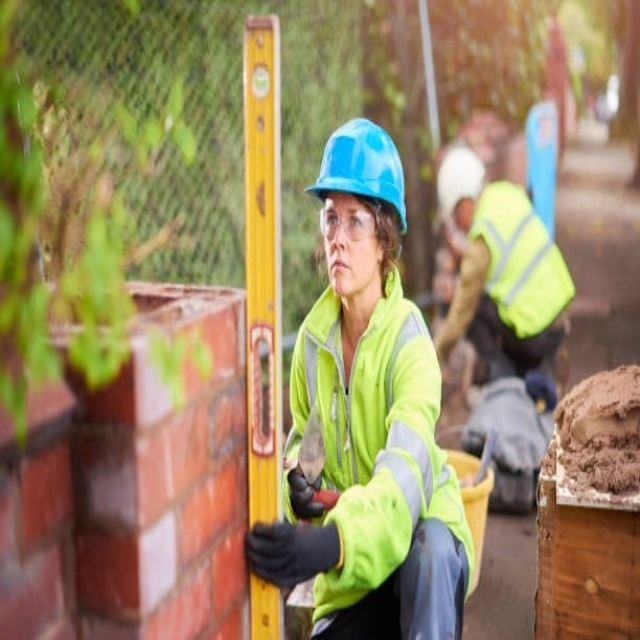Gafas: (317, 200, 379, 241)
Guantes: (243, 513, 339, 587), (287, 464, 337, 521)
Sin_mascara: (328, 250, 353, 290)
